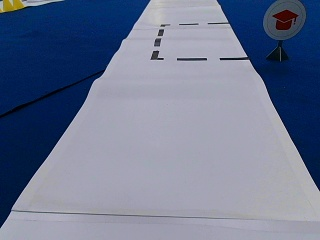school: (263, 1, 305, 39)
